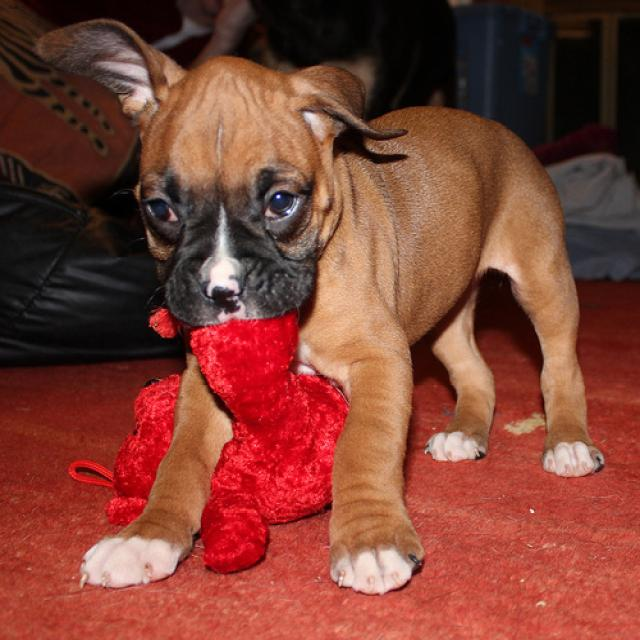dog-boxer: (20, 13, 617, 610)
